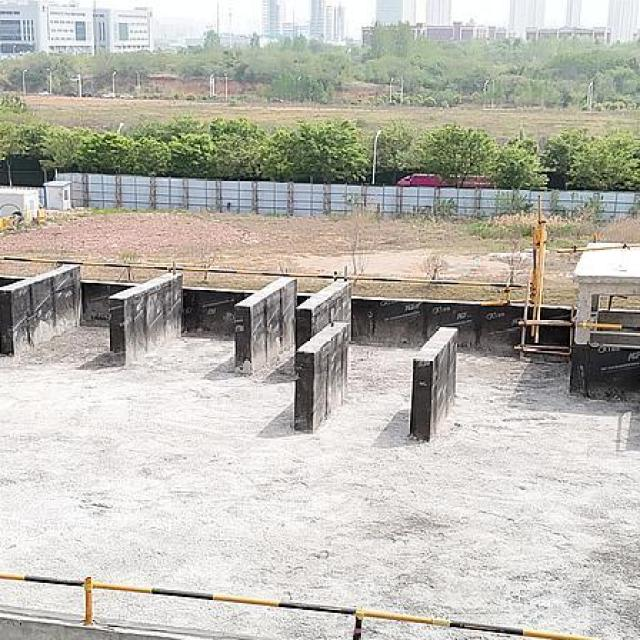edge_guardrail: (0, 573, 599, 640), (0, 253, 529, 300), (575, 321, 640, 331)
